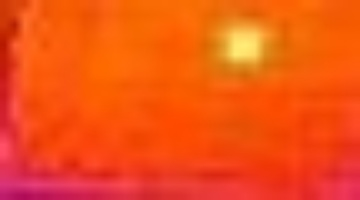Hotspot: (221, 22, 268, 70)
